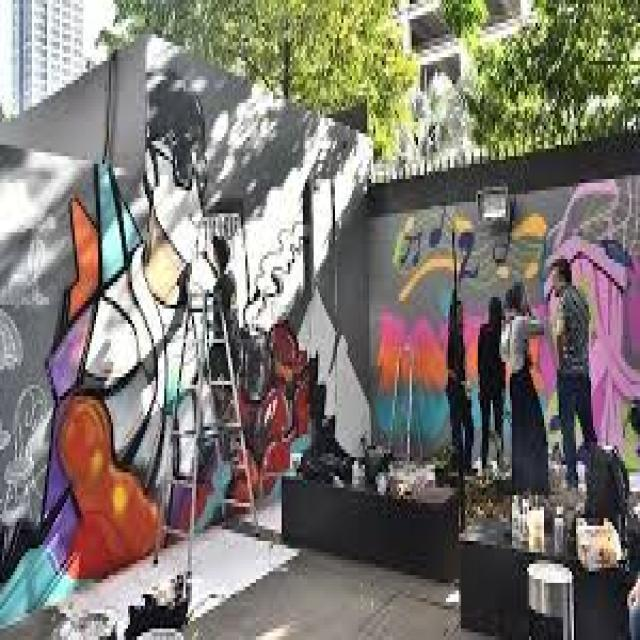-: (0, 69, 312, 630), (371, 178, 640, 464)
